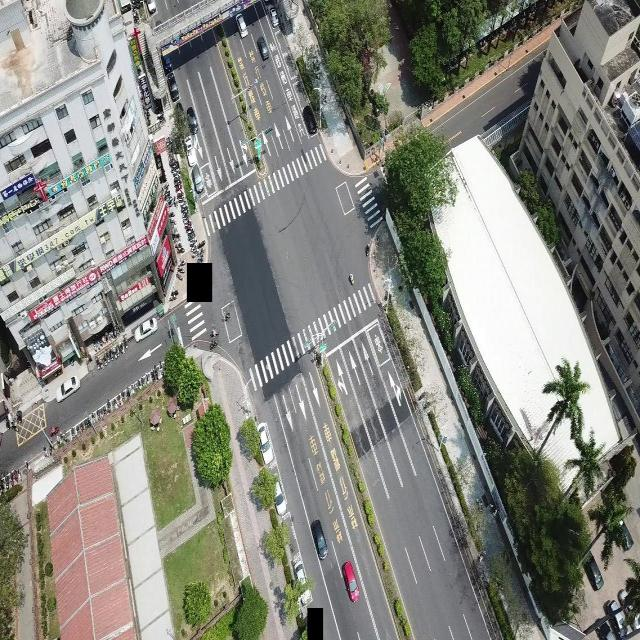car: (340, 558, 360, 603), (53, 377, 84, 403), (257, 420, 274, 465), (310, 516, 327, 558), (299, 103, 317, 137), (136, 316, 156, 340), (190, 165, 205, 196), (186, 105, 200, 135), (257, 34, 270, 62), (167, 73, 180, 101), (235, 14, 249, 40)
